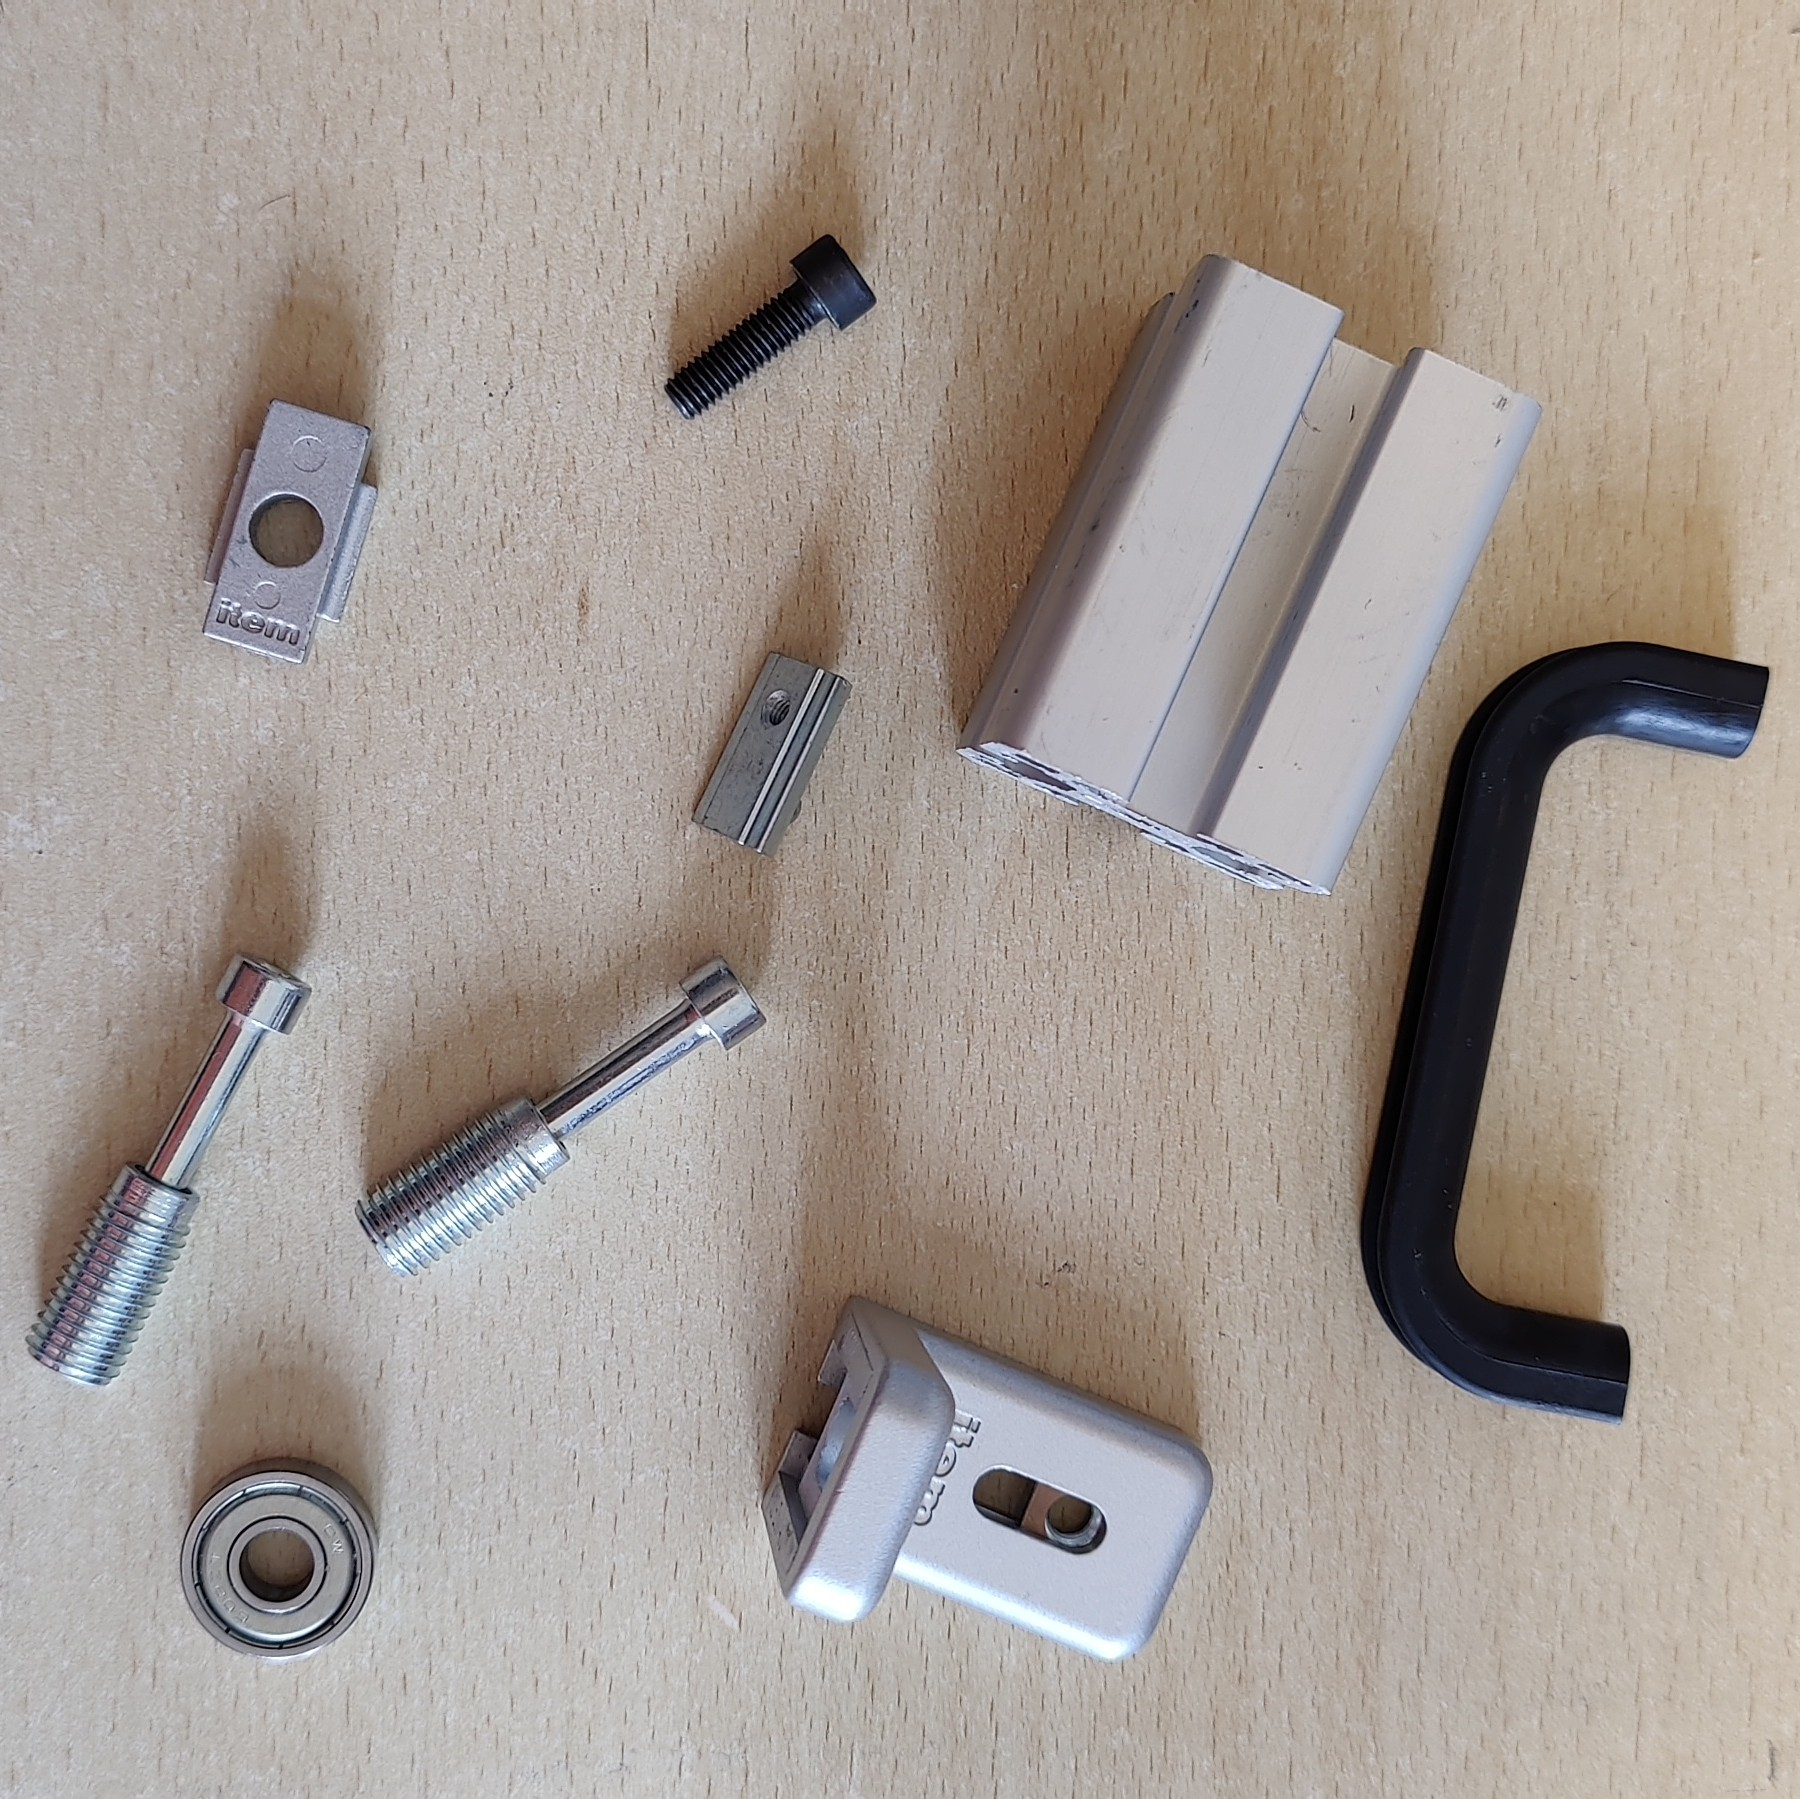Aluminium Extension: (957, 250, 1543, 899)
Ball Bearing: (176, 1453, 384, 1664)
Multiwinkel: (756, 1287, 1214, 1667)
Pull Handle: (1355, 638, 1770, 1427)
Shoulder Socket Head Cap Screw: (352, 951, 771, 1282), (23, 944, 315, 1390)
Socket Head Cap Screw: (659, 227, 878, 422)
T Nut Square: (196, 395, 380, 667)
T Spring Nut: (688, 646, 855, 863)
